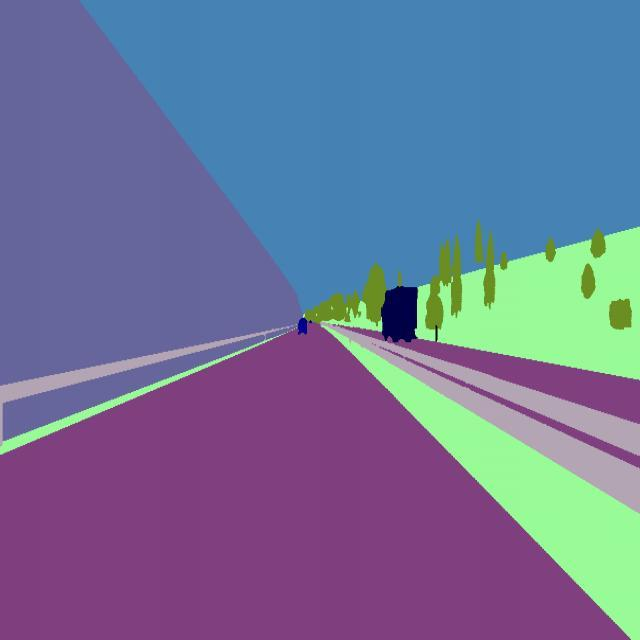safe: (374, 273, 430, 350), (294, 314, 311, 339)
